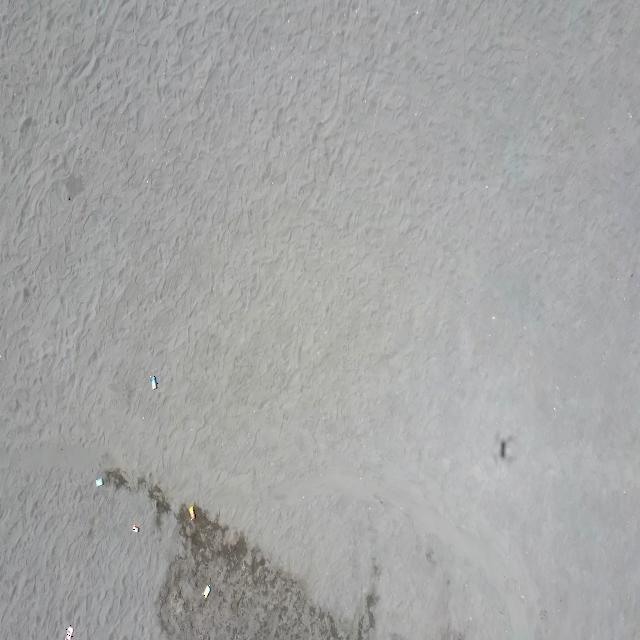Garbage: (187, 504, 195, 520), (201, 584, 209, 597), (148, 375, 156, 388), (64, 626, 71, 639), (95, 475, 103, 486), (131, 523, 139, 532)
